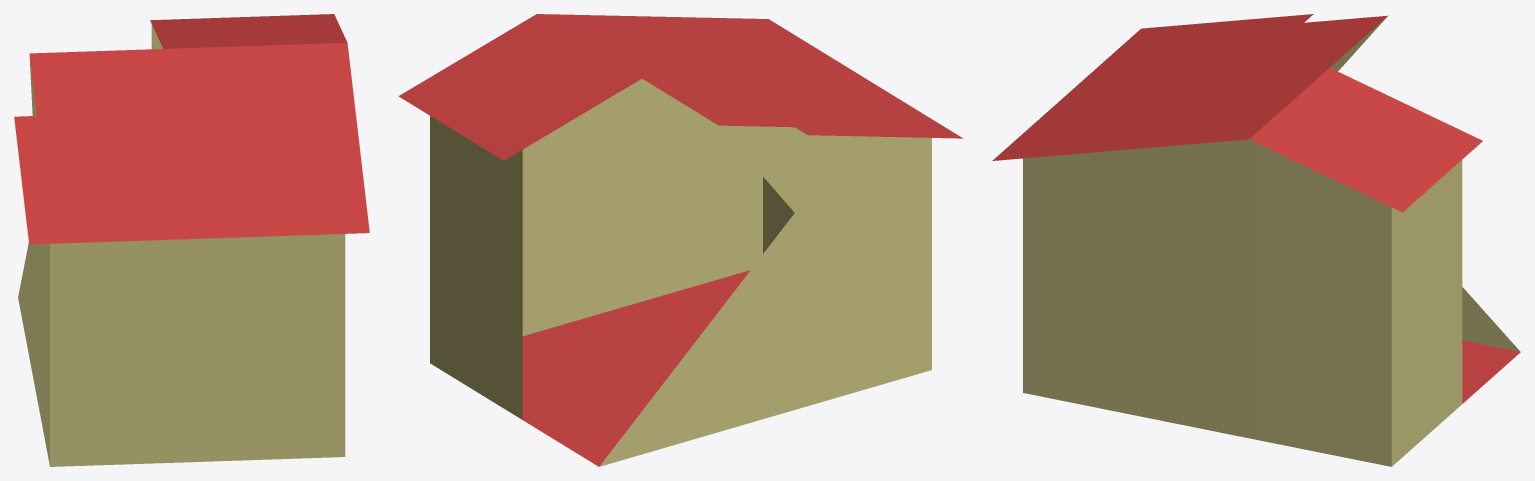
3 renders of one model, left to right at view 1: azimuth 30°, elevation 25°; view 2: azimuth 150°, elevation 25°; view 3: azimuth 270°, elevation 25°, orthographic.
Bounding box in the file's own units: 16.51 × 17.17 × 11.1.
